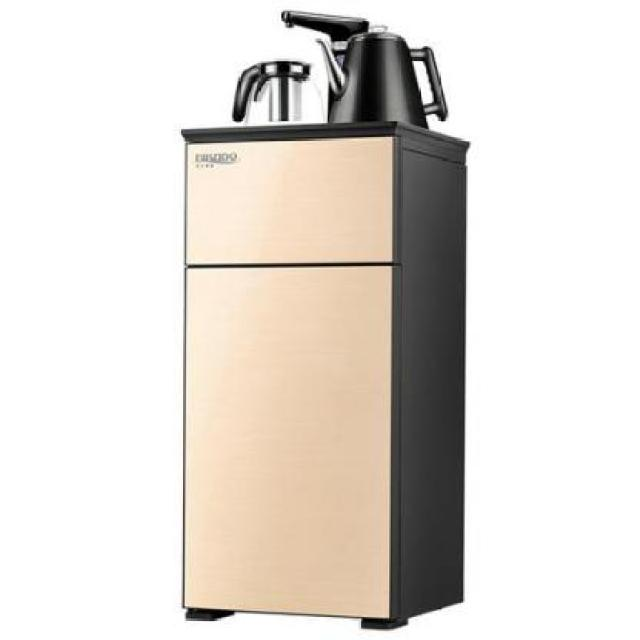cooler: (174, 5, 471, 630)
